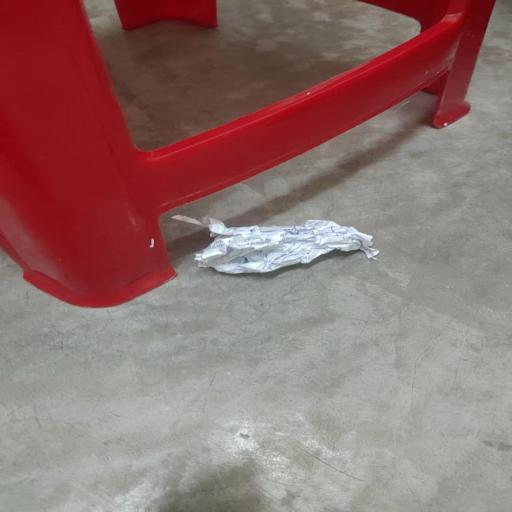paper: (178, 211, 392, 278)
